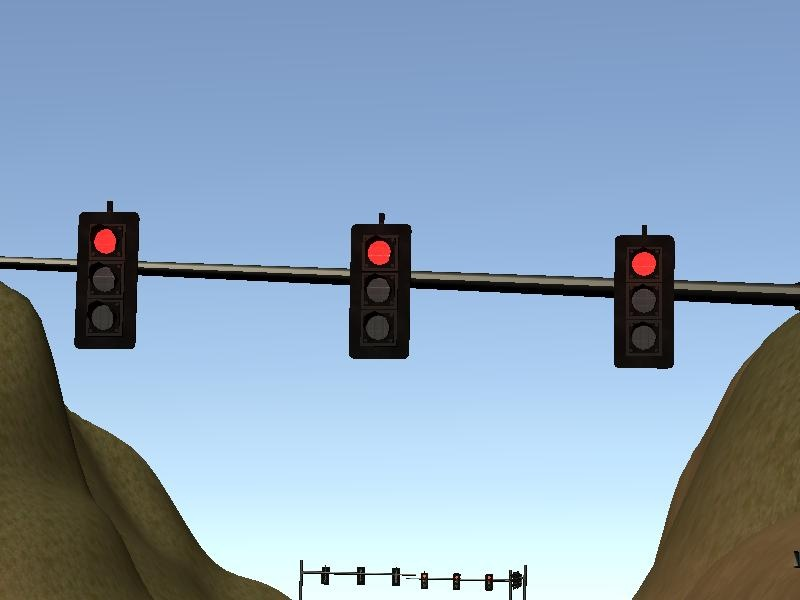RED: (612, 233, 674, 368), (349, 224, 411, 359), (75, 212, 137, 347)
